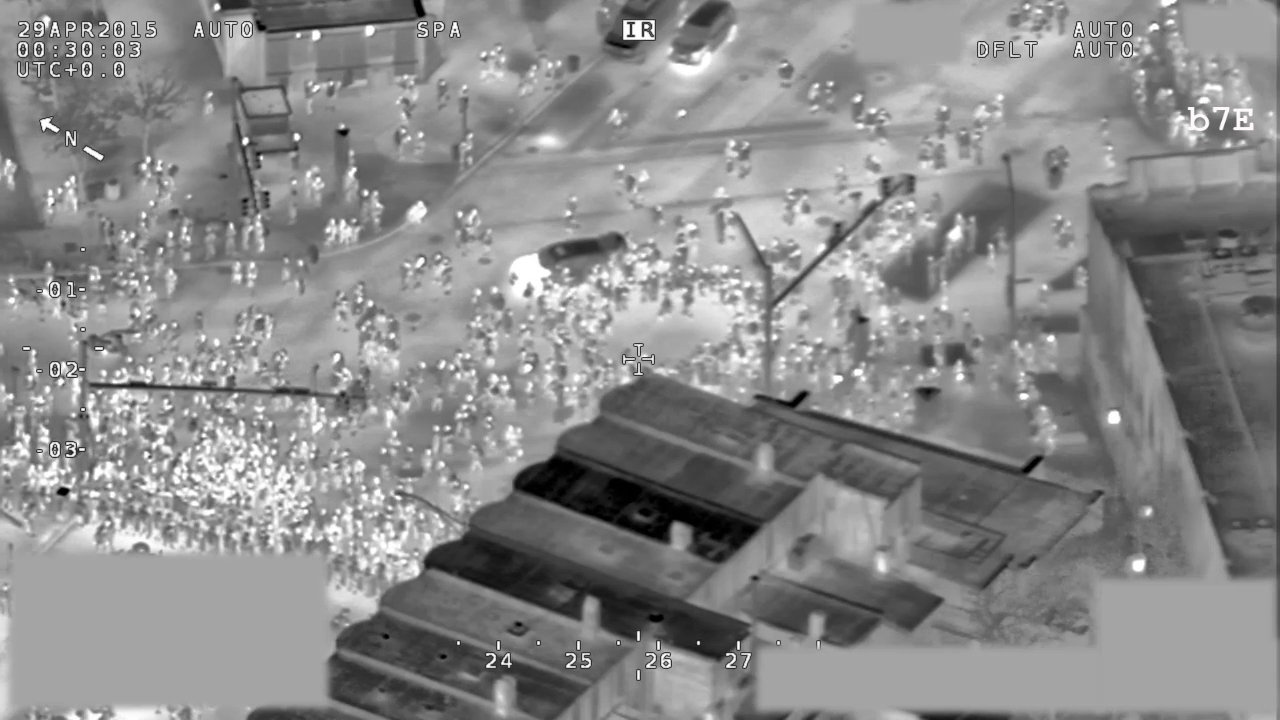vehicle: (502, 231, 639, 299), (661, 1, 743, 71), (595, 1, 665, 66)
